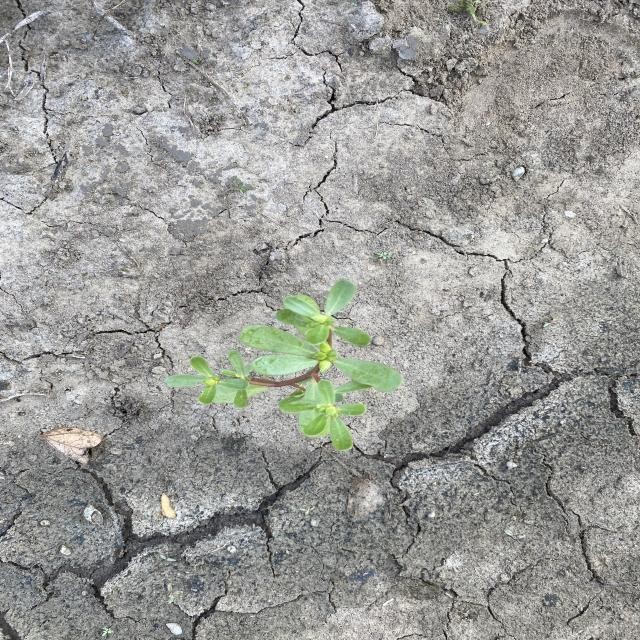Purslane: (161, 278, 406, 454)
